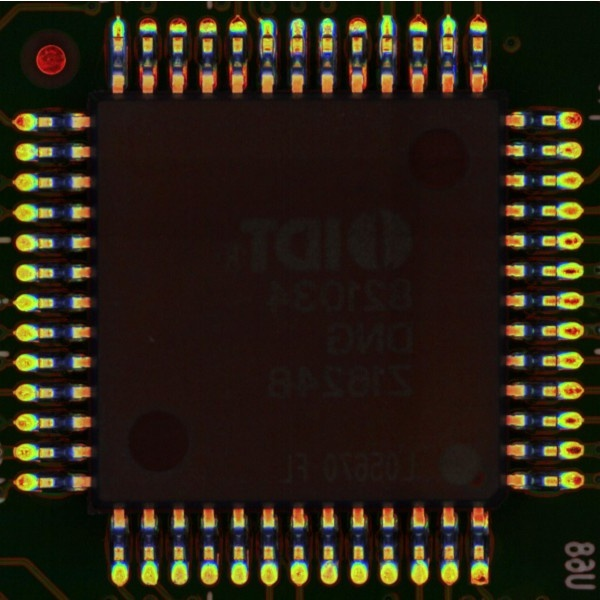Bad_podu: (443, 27, 453, 44), (383, 28, 392, 45), (323, 27, 332, 44), (113, 29, 122, 44), (264, 28, 271, 46), (293, 27, 300, 44)
